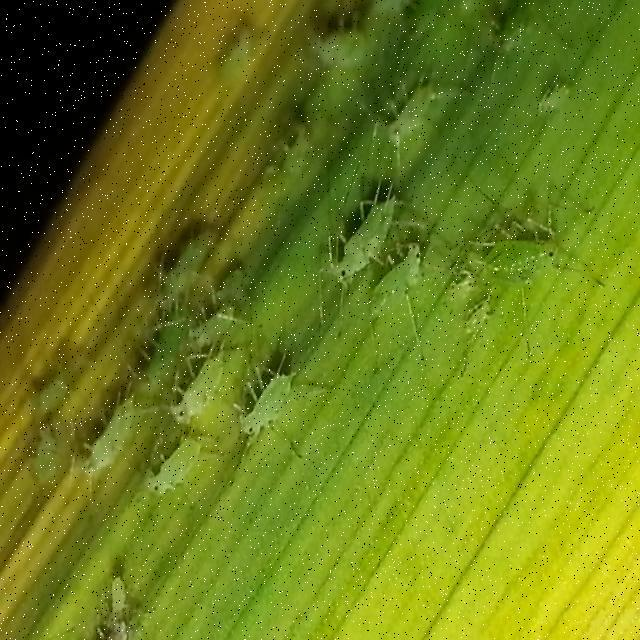Aphids: (456, 205, 575, 330), (312, 161, 392, 338), (375, 52, 471, 164), (362, 241, 444, 368), (143, 214, 243, 318), (230, 344, 307, 452), (71, 371, 135, 491), (133, 431, 219, 519), (129, 308, 192, 420), (180, 275, 253, 370), (160, 353, 237, 443), (78, 551, 147, 640), (536, 61, 585, 146)
